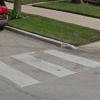Crosswalk: (7, 39, 94, 99)
